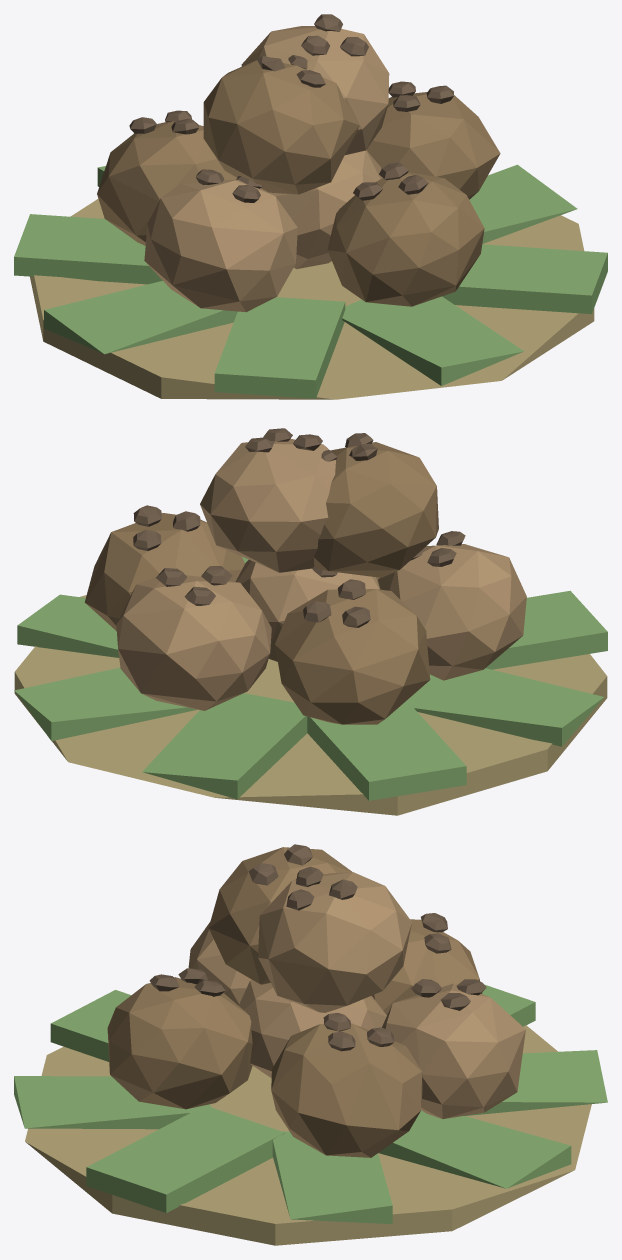
Rendered from 15-Recursos_nido_cocos.glb.
3 renders of one model, top to bottom at view 1: azimuth 30°, elevation 25°; view 2: azimuth 150°, elevation 25°; view 3: azimuth 270°, elevation 25°, orthographic.
Visible parts, largest first — view 1: SM_Coco_M_Hoja_Palmera, SM_Coco_M_Coco_Oscuro, SM_Coco_M_Coco_Fibra, SM_Coco_M_Hoja_Seca, SM_Coco_M_Coco_Ojos; view 2: SM_Coco_M_Coco_Fibra, SM_Coco_M_Hoja_Palmera, SM_Coco_M_Coco_Oscuro, SM_Coco_M_Hoja_Seca, SM_Coco_M_Coco_Ojos; view 3: SM_Coco_M_Hoja_Palmera, SM_Coco_M_Coco_Oscuro, SM_Coco_M_Coco_Fibra, SM_Coco_M_Hoja_Seca, SM_Coco_M_Coco_Ojos.
Boxes of the visible parts, bbox=[...] form: SM_Coco_M_Hoja_Palmera: bbox=[14, 164, 607, 398]; SM_Coco_M_Coco_Oscuro: bbox=[97, 60, 500, 306]; SM_Coco_M_Coco_Fibra: bbox=[144, 26, 389, 312]; SM_Coco_M_Hoja_Seca: bbox=[30, 199, 594, 399]; SM_Coco_M_Coco_Ojos: bbox=[129, 14, 453, 202]; SM_Coco_M_Coco_Fibra: bbox=[116, 438, 526, 710]; SM_Coco_M_Hoja_Palmera: bbox=[14, 545, 607, 800]; SM_Coco_M_Coco_Oscuro: bbox=[84, 442, 438, 724]; SM_Coco_M_Hoja_Seca: bbox=[14, 595, 607, 815]; SM_Coco_M_Coco_Ojos: bbox=[133, 428, 465, 627]; SM_Coco_M_Hoja_Palmera: bbox=[14, 984, 607, 1224]; SM_Coco_M_Coco_Oscuro: bbox=[107, 847, 482, 1157]; SM_Coco_M_Coco_Fibra: bbox=[188, 872, 525, 1118]; SM_Coco_M_Hoja_Seca: bbox=[25, 1025, 591, 1245]; SM_Coco_M_Coco_Ojos: bbox=[149, 844, 486, 1051].
Bounding box in the file's own units: 1.73 × 0.8294 × 1.73.
